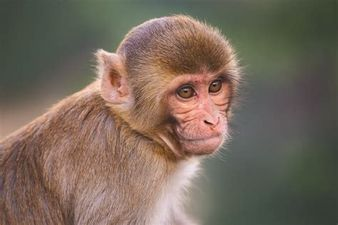monkey: (0, 14, 273, 202)
